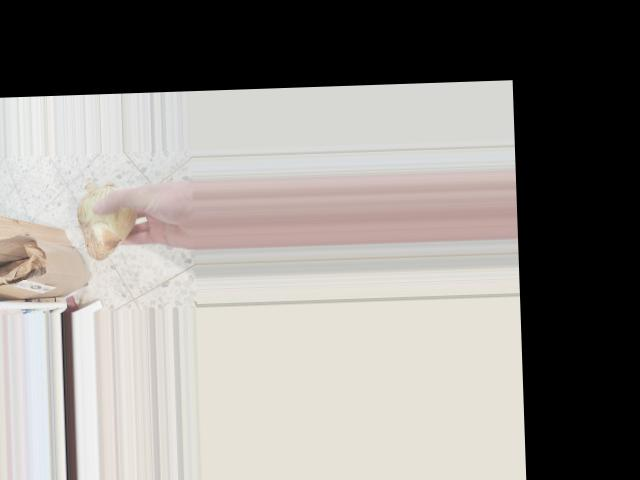onion: (68, 180, 143, 258)
